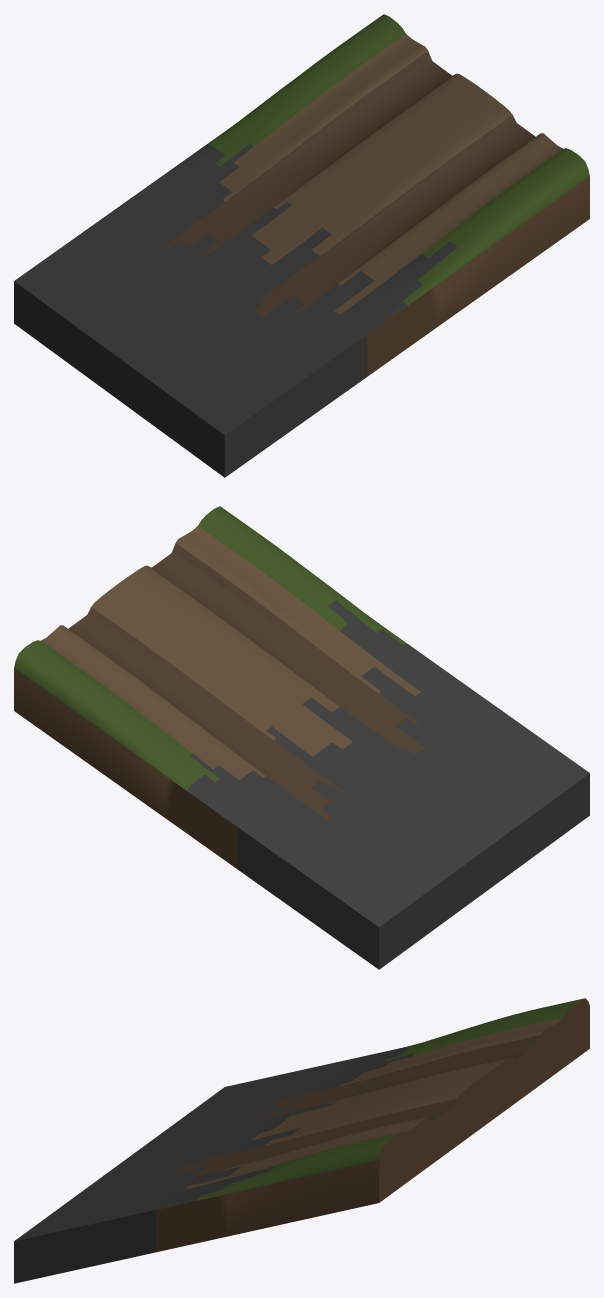
The picture shows the model from 3 angles, top to bottom: view 1: azimuth 30°, elevation 25°; view 2: azimuth 150°, elevation 25°; view 3: azimuth 330°, elevation 25°; orthographic projection.
Parts seen in each view (by area): view 1: b2u; view 2: b2u; view 3: b2u.
Part boxes in pixels (x1=…): b2u: x1=14, y1=14, x2=589, y2=477; b2u: x1=14, y1=506, x2=589, y2=969; b2u: x1=14, y1=998, x2=589, y2=1283.
Size of the model in its own units: 9 by 5.31 by 9.
